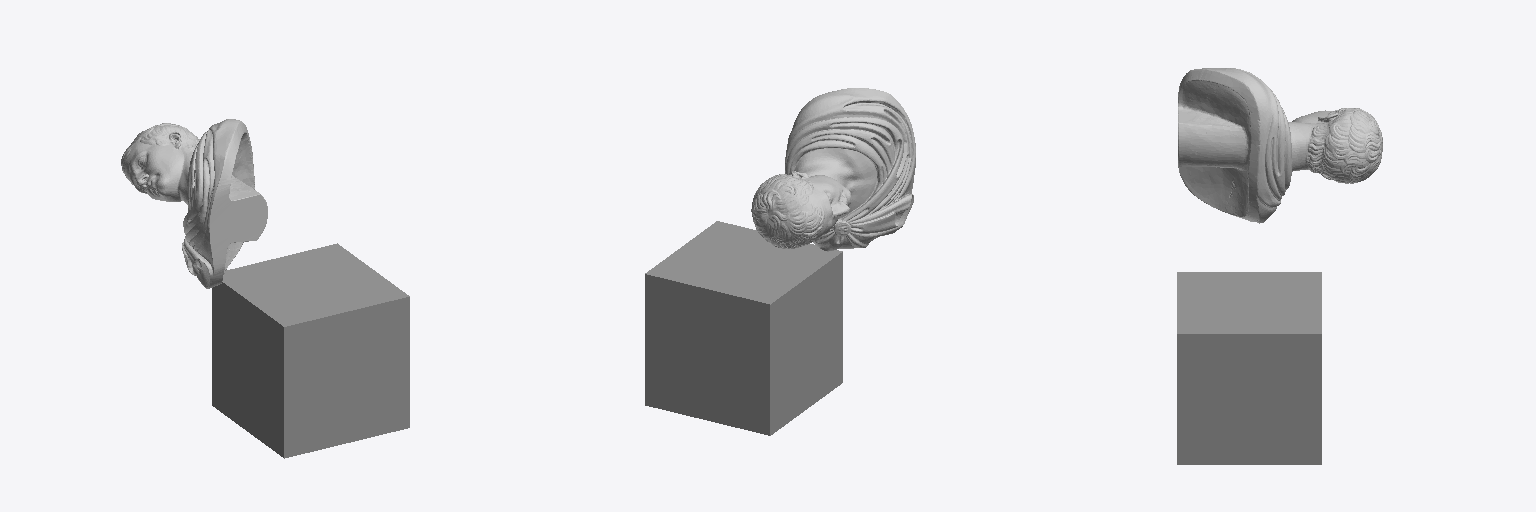
Rendered from douzousan3.obj.
3 views of the same model, side by side, from view 1: azimuth 30°, elevation 25°; view 2: azimuth 150°, elevation 25°; view 3: azimuth 270°, elevation 25° (orthographic).
Visible parts, largest first — view 1: Cube, Group56668; view 2: Cube, Group56668; view 3: Cube, Group56668.
Boxes of the visible parts, <box> form: Cube: <box>212,243,409,458</box>; Group56668: <box>121,119,267,288</box>; Cube: <box>645,221,842,435</box>; Group56668: <box>751,88,915,251</box>; Cube: <box>1177,272,1321,464</box>; Group56668: <box>1178,68,1382,223</box>.
Bounding box in the file's own units: 3.26 × 4.84 × 2.85.